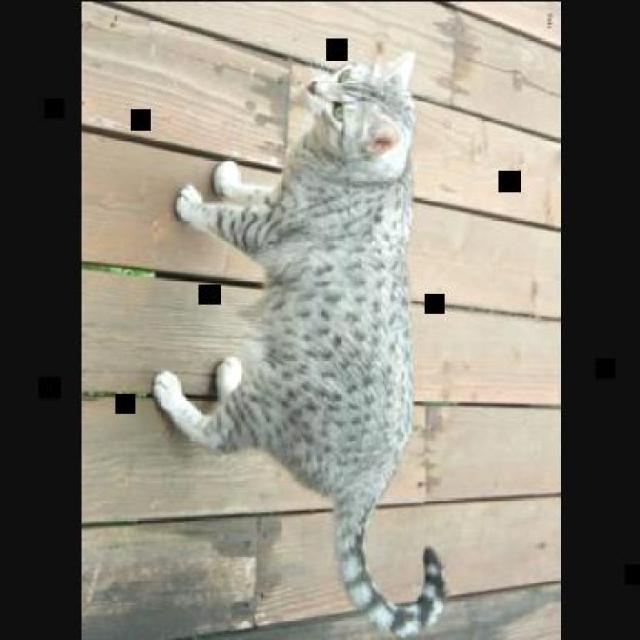unauthorized: (149, 46, 446, 639)
